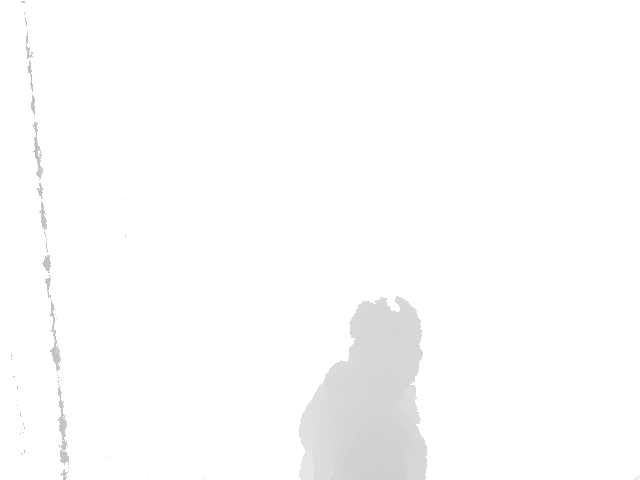head: (349, 297, 423, 387)
person: (298, 296, 430, 480)
